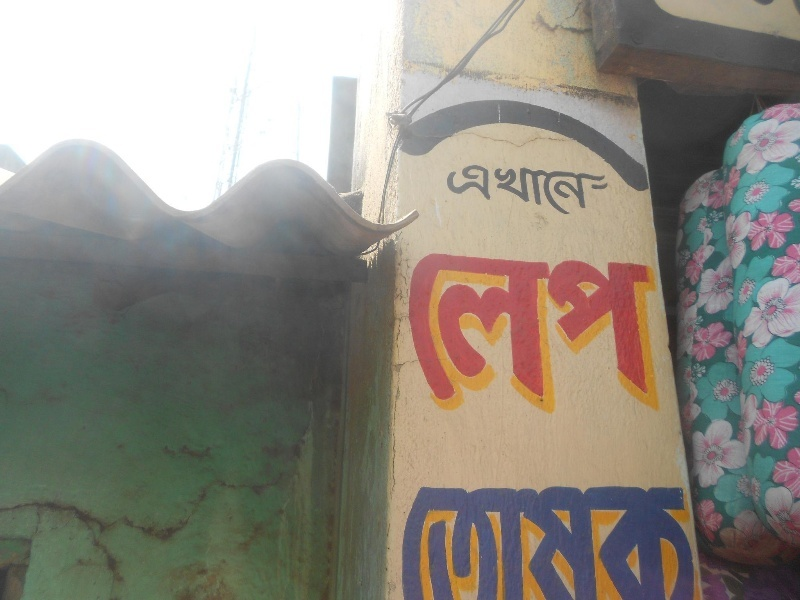text: (417, 251, 432, 414), (433, 251, 448, 414), (449, 251, 464, 414), (465, 251, 480, 414), (481, 251, 496, 414), (497, 251, 512, 414), (513, 251, 528, 414), (529, 251, 544, 414), (545, 251, 560, 414), (561, 251, 576, 414), (577, 251, 592, 414), (593, 251, 608, 414), (609, 251, 624, 414), (625, 251, 640, 414), (641, 251, 656, 414), (657, 251, 672, 414), (401, 481, 416, 598), (417, 481, 432, 598), (433, 481, 448, 598), (449, 481, 464, 598), (465, 481, 480, 598), (481, 481, 496, 598), (497, 481, 512, 598), (513, 481, 528, 598), (529, 481, 544, 598), (545, 481, 560, 598), (561, 481, 576, 598), (577, 481, 592, 598), (593, 481, 608, 598), (609, 481, 624, 598), (625, 481, 640, 598), (641, 481, 656, 598), (657, 481, 672, 598), (673, 481, 688, 598), (409, 251, 416, 414), (689, 481, 698, 598), (449, 157, 464, 222), (465, 157, 480, 222), (481, 157, 496, 222), (497, 157, 512, 222), (513, 157, 528, 222), (529, 157, 544, 222), (545, 157, 560, 222), (561, 157, 576, 222), (577, 157, 592, 222), (593, 157, 608, 222), (673, 251, 676, 414), (396, 481, 400, 598), (443, 157, 448, 222), (609, 157, 613, 222)
